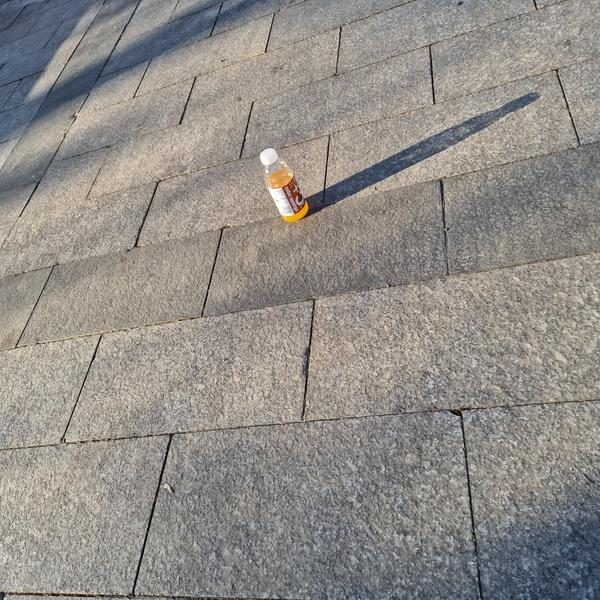plastic_bottle: (247, 140, 317, 229)
